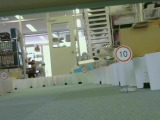speed_10: (113, 44, 133, 62)
